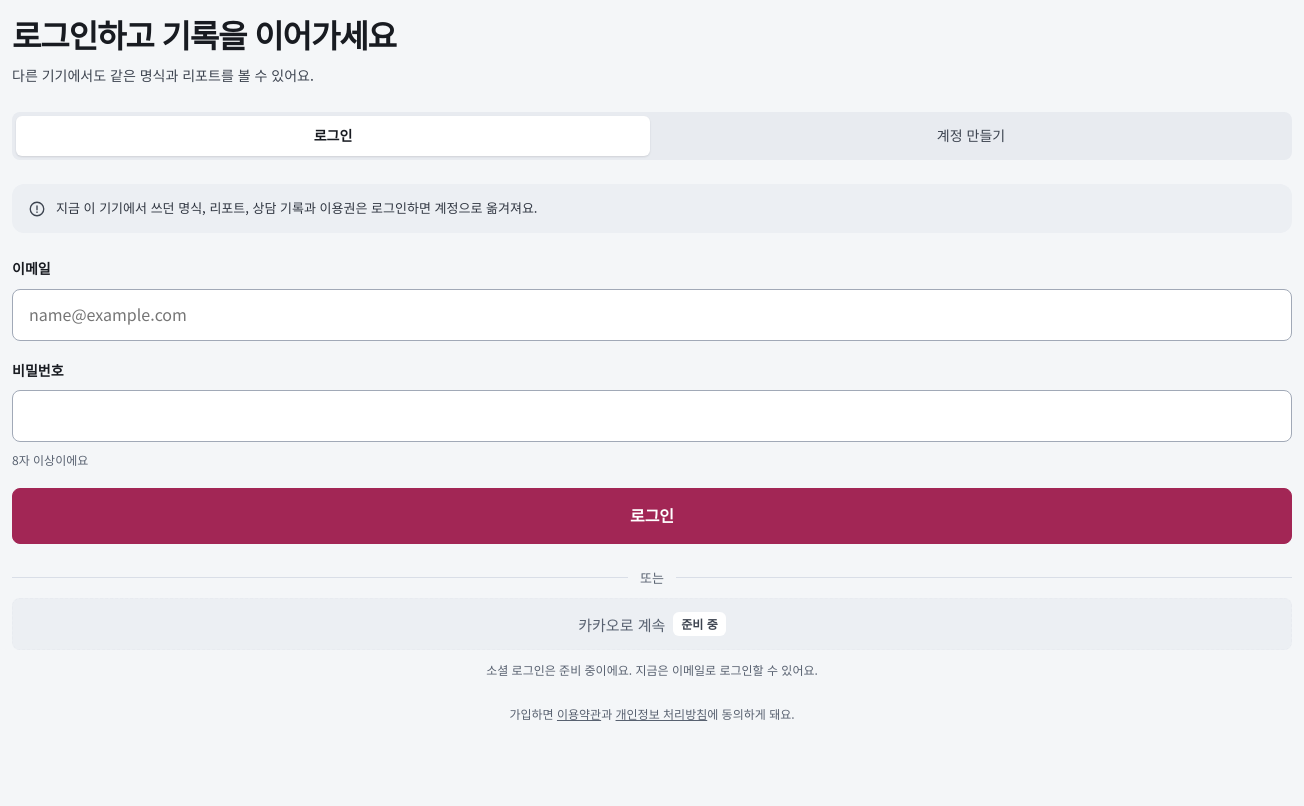
Test: LiveLoginScreen anonymous migration messaging › reports login success with a pending migration notice when anonymous migration is retryable
Type "user@example.com" into the field labelled "이메일" at (652, 314), box x1=12 y1=288 x2=1292 y2=340
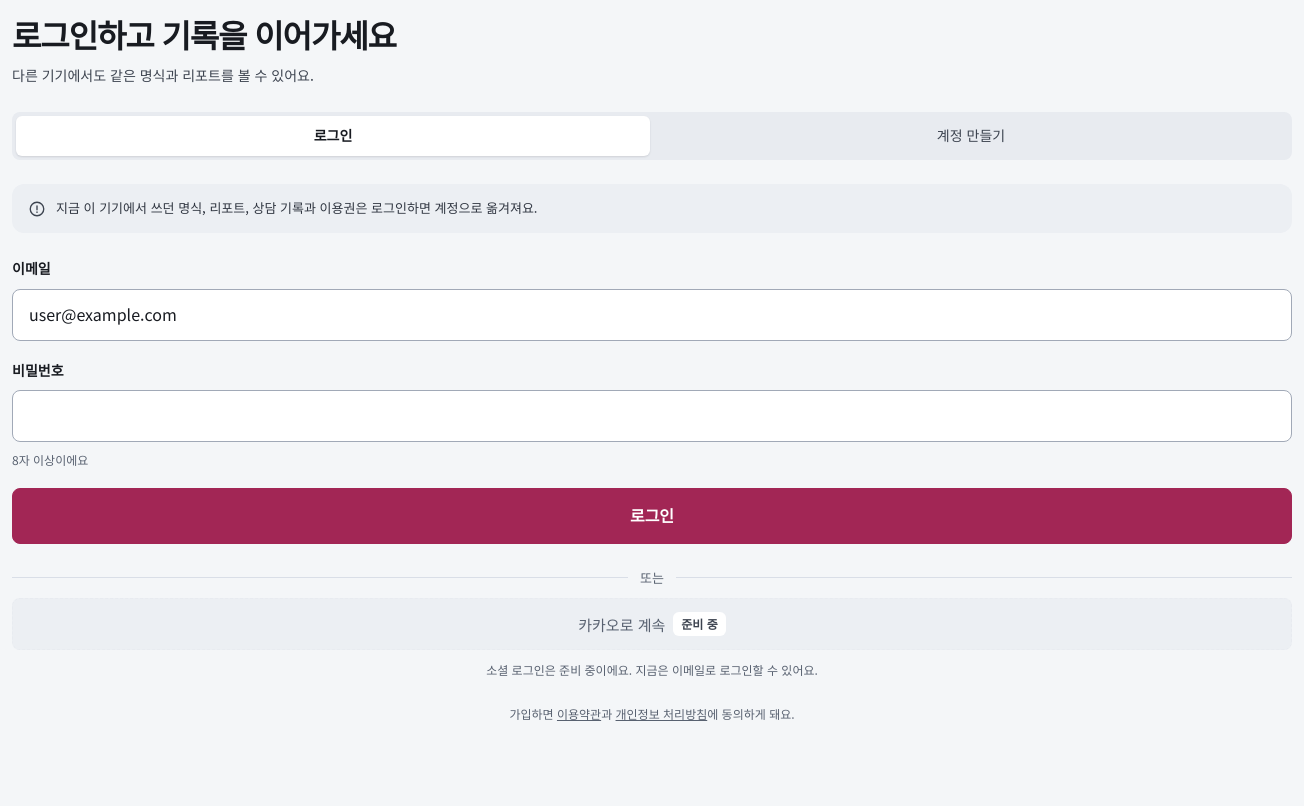
Type "password123" into the password field labelled "비밀번호" at (652, 416), box x1=12 y1=390 x2=1292 y2=442
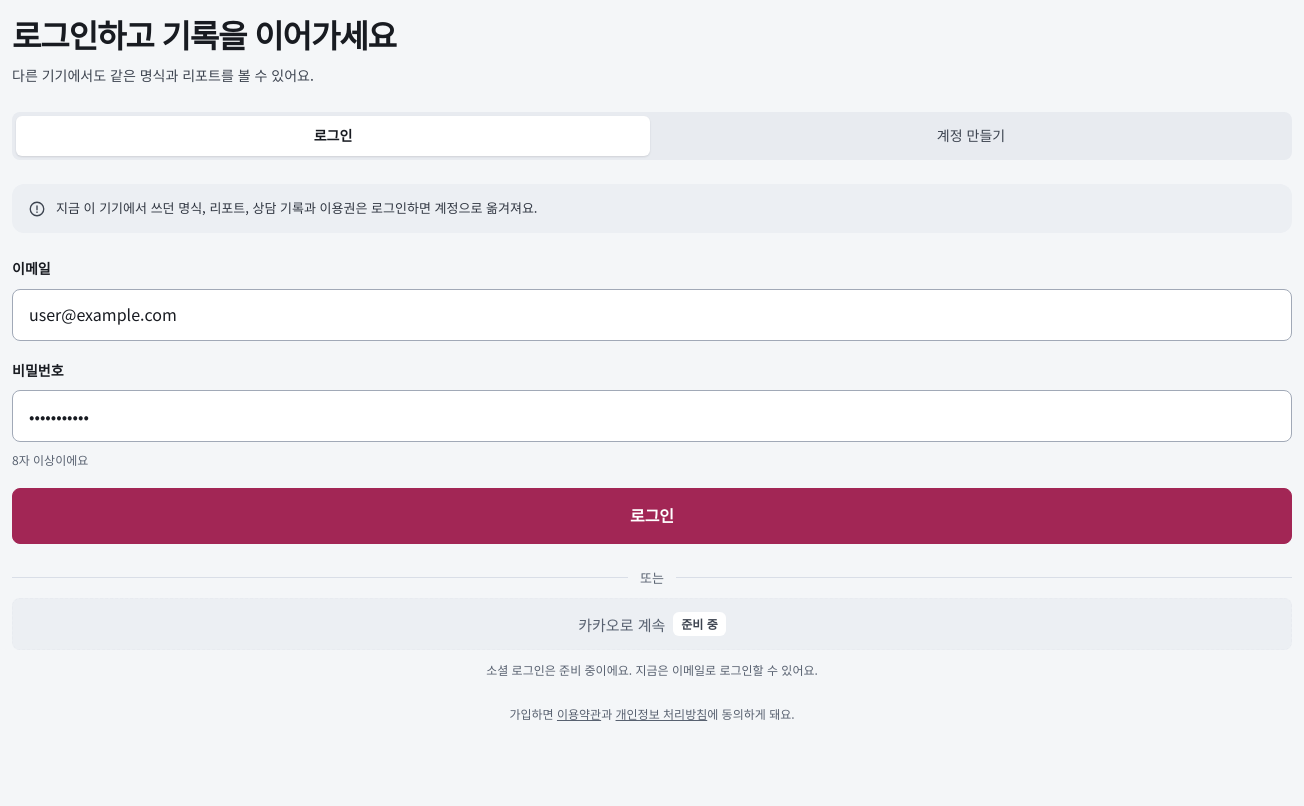
Click the button "로그인" at (652, 516), box x1=12 y1=488 x2=1292 y2=544
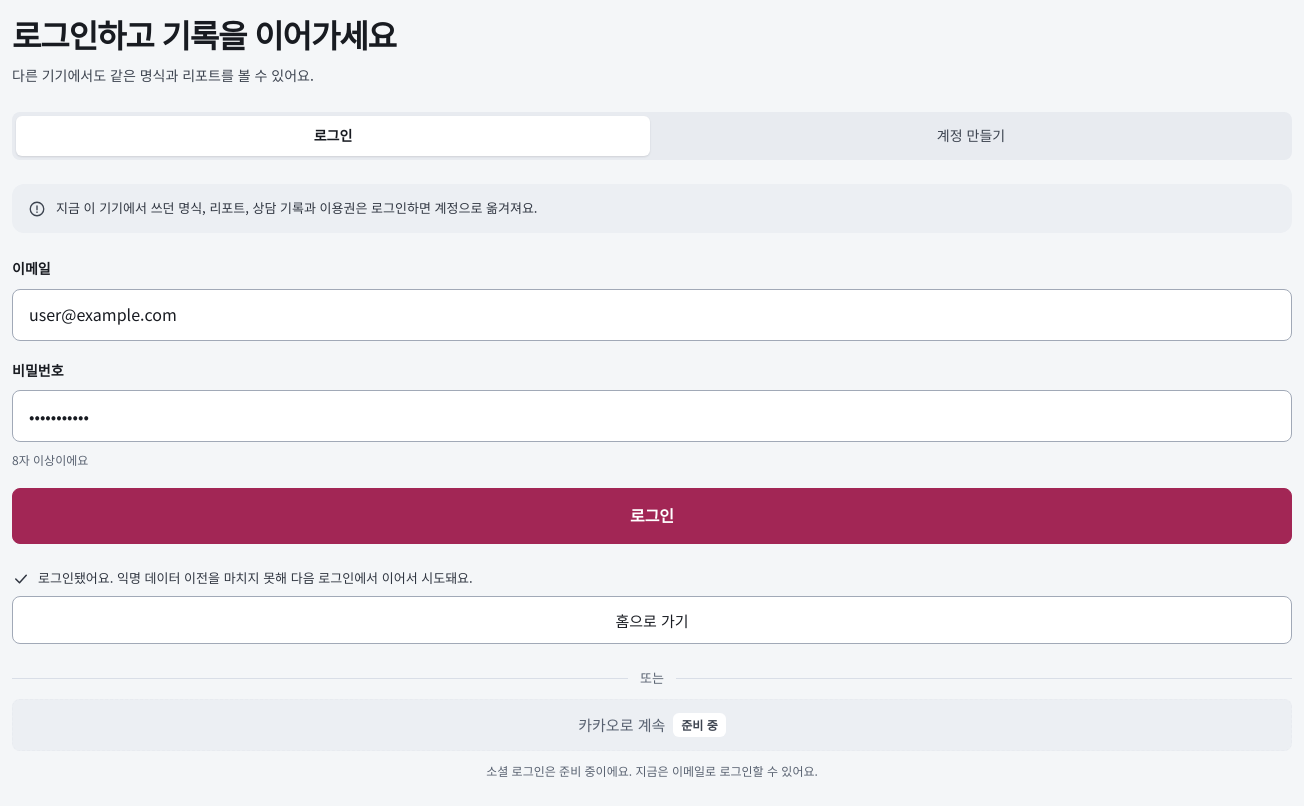
Result: the message shows "로그인됐어요" at x1=38 y1=568 x2=473 y2=586
Result: the message shows "익명 데이터 이전을 마치지 못해 다음 로그인에서 이어서 시도돼요." at x1=38 y1=568 x2=473 y2=586
